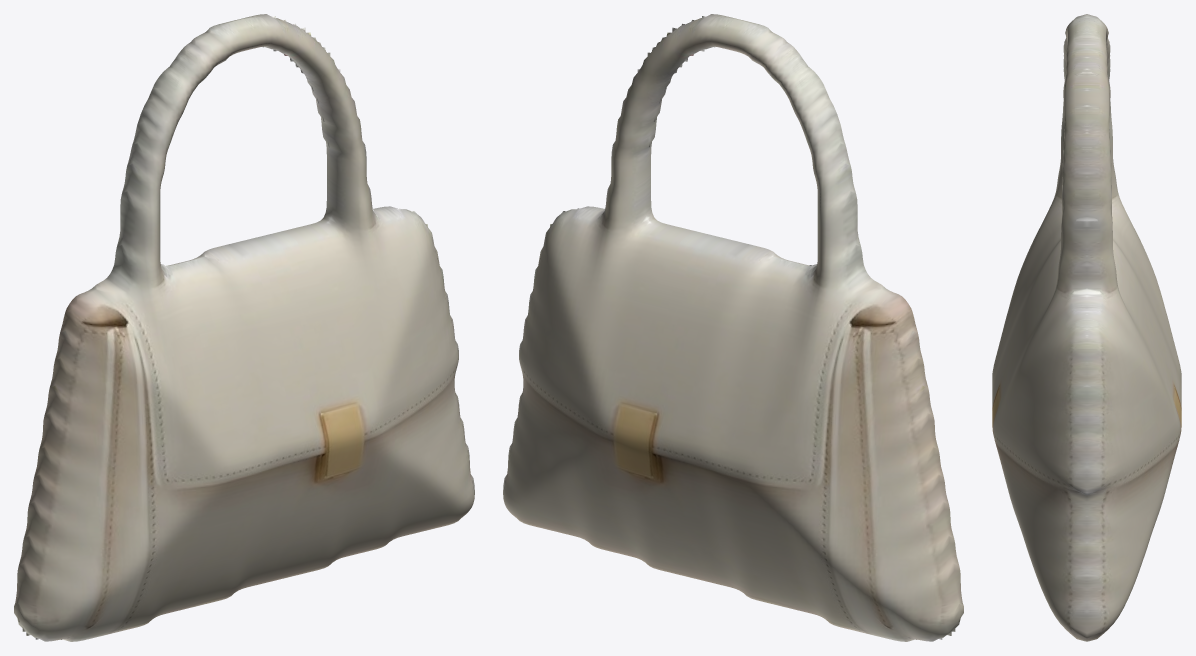
Rendered from prod-ae-ivory-mini-bag.glb.
The picture shows the model from 3 angles, left to right: view 1: azimuth 30°, elevation 25°; view 2: azimuth 150°, elevation 25°; view 3: azimuth 270°, elevation 25°; orthographic projection. The views are drawn at different scales.
Visible parts, largest first — view 1: prod-ae-ivory-mini-bag_standalone; view 2: prod-ae-ivory-mini-bag_standalone; view 3: prod-ae-ivory-mini-bag_standalone.
Part boxes in pixels (x1=…): prod-ae-ivory-mini-bag_standalone: x1=14, y1=14, x2=474, y2=641; prod-ae-ivory-mini-bag_standalone: x1=503, y1=14, x2=963, y2=641; prod-ae-ivory-mini-bag_standalone: x1=992, y1=14, x2=1181, y2=641.
Bounding box in the file's own units: 0.2751 × 0.3372 × 0.1063.
Materials: 1 (1 with a texture image).
